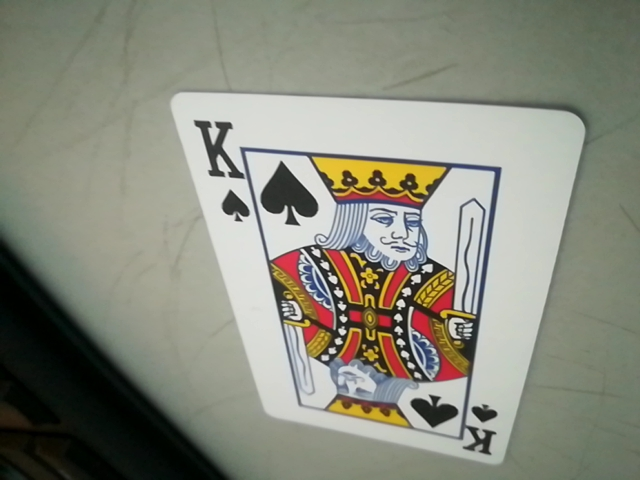ht k: (457, 401, 503, 458)
